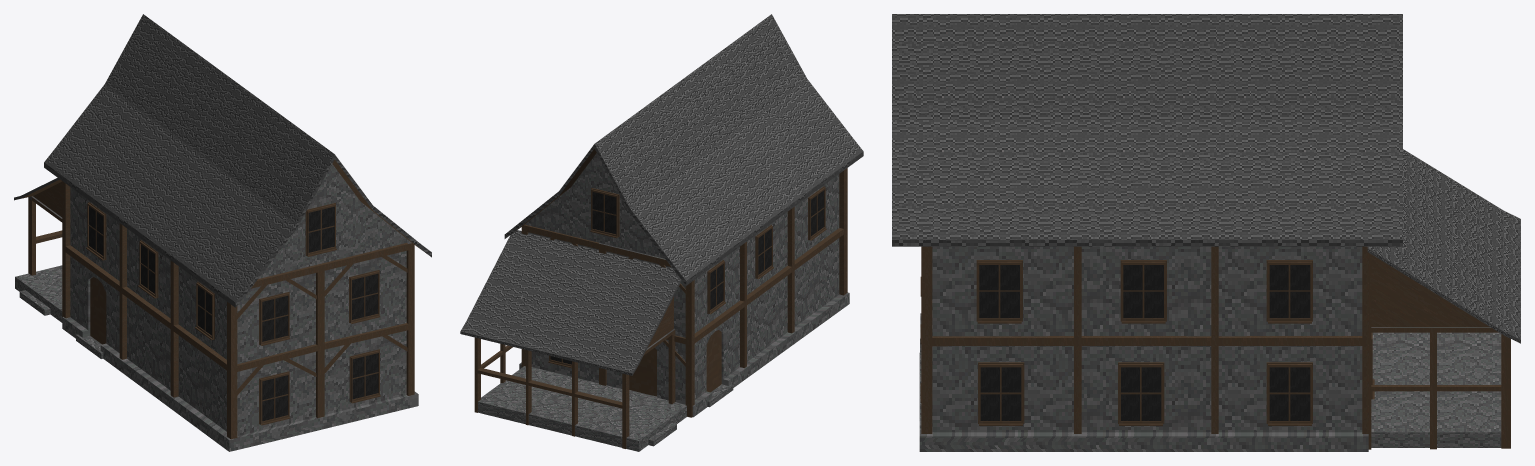
The model's file is Human_Villanger_house03.fbx.
The picture shows the model from 3 angles, left to right: view 1: azimuth 30°, elevation 25°; view 2: azimuth 150°, elevation 25°; view 3: azimuth 270°, elevation 25°; orthographic projection. The views are drawn at different scales.
Parts seen in each view (by area): view 1: Cube.002; view 2: Cube.002; view 3: Cube.002.
Part boxes in pixels (x1,y1,x2,y2): Cube.002: (14,14,431,451); Cube.002: (460,14,863,451); Cube.002: (892,14,1520,451).
Size of the model in its own units: 359 by 485 by 732.
